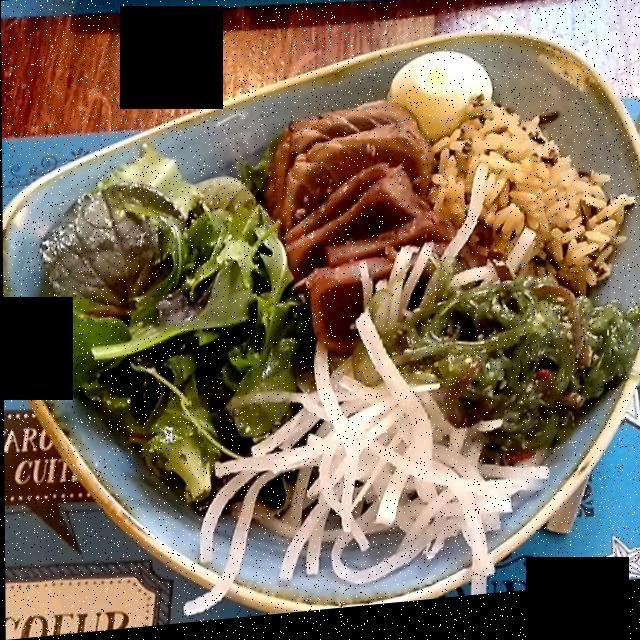mayonnaise: (379, 62, 499, 139)
radish: (193, 308, 569, 595)
rice-wild: (417, 119, 617, 287)
salad: (42, 172, 313, 505)
tuna: (258, 114, 447, 343)
